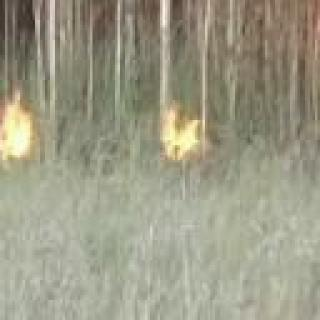fire: (158, 99, 207, 162), (0, 90, 32, 168)
